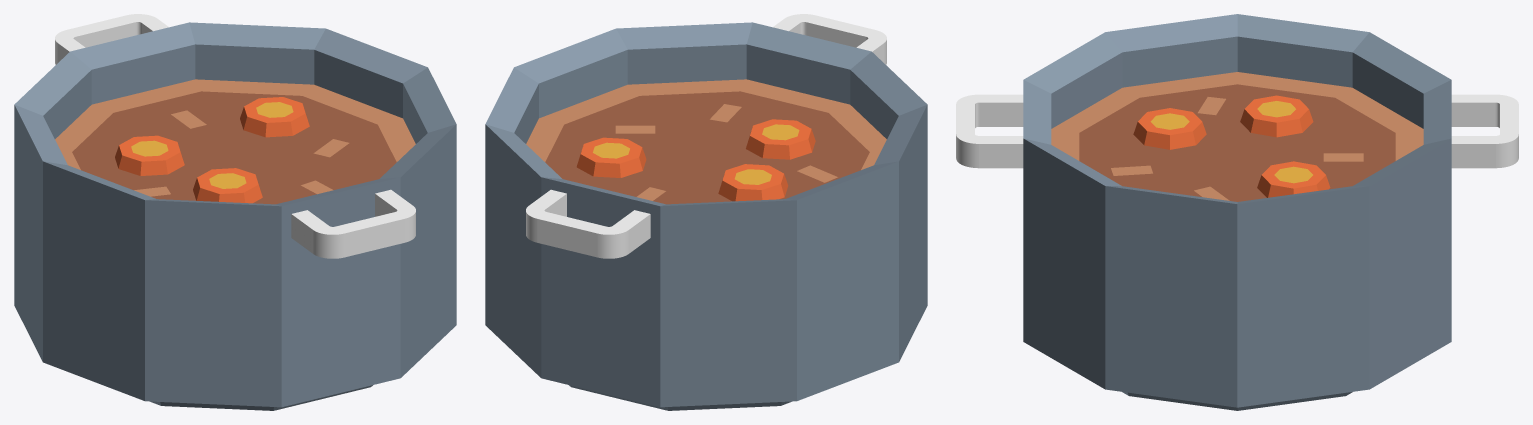
Rendered from potStew.dae.
The picture shows the model from 3 angles, left to right: view 1: azimuth 30°, elevation 25°; view 2: azimuth 150°, elevation 25°; view 3: azimuth 270°, elevation 25°; orthographic projection.
Parts seen in each view (by area): view 1: potStew; view 2: potStew; view 3: potStew.
Boxes of the visible parts, left/top/right/bottom form: potStew: left=14, top=14, right=456, bottom=410; potStew: left=485, top=14, right=927, bottom=410; potStew: left=956, top=14, right=1518, bottom=410.
Size of the model in its own units: 0.6575 by 0.3608 by 0.8221.
